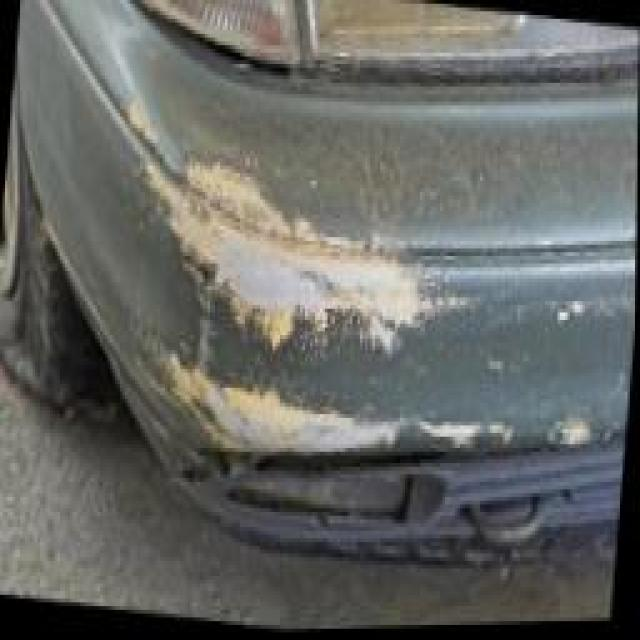Bumper: (0, 0, 640, 599)
